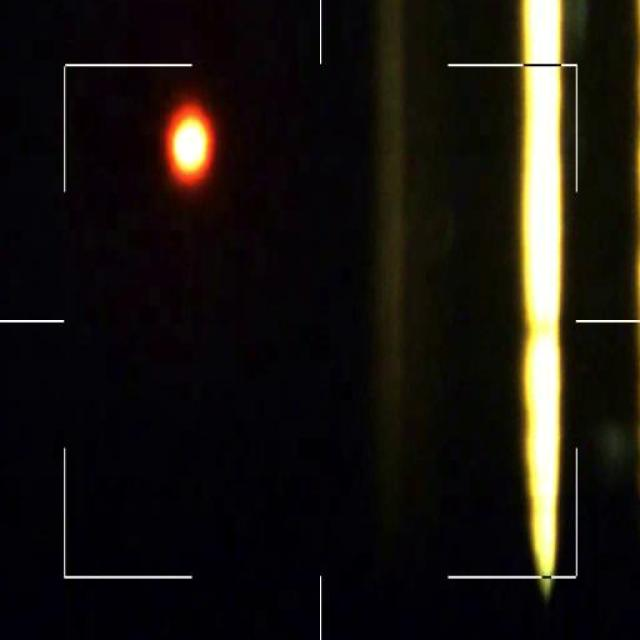bird: (162, 104, 211, 179)
